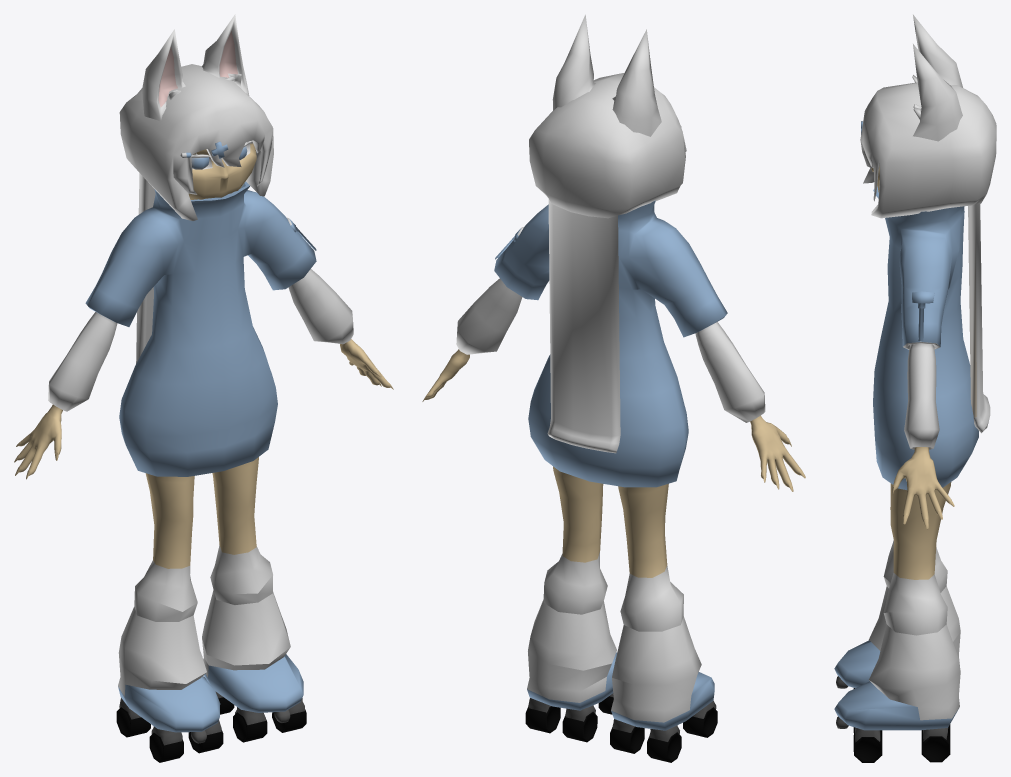
File: Humanoide.fbx
3 renders of one model, left to right at view 1: azimuth 30°, elevation 25°; view 2: azimuth 150°, elevation 25°; view 3: azimuth 270°, elevation 25°, orthographic. The views are drawn at different scales.
Parts seen in each view (by area): view 1: Humano; view 2: Humano; view 3: Humano.
Part boxes in pixels (x1,y1,x2,y2): Humano: (14,14,393,762); Humano: (422,14,805,762); Humano: (834,14,996,762).
Size of the model in its own units: 251 by 462 by 97.12.
